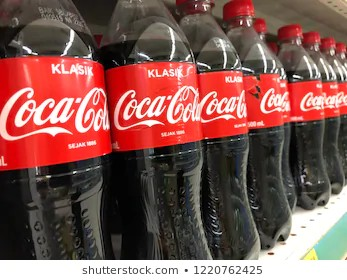coke-bottle-2l: (1, 1, 118, 261), (120, 2, 197, 259), (240, 1, 297, 241), (201, 2, 245, 255)
